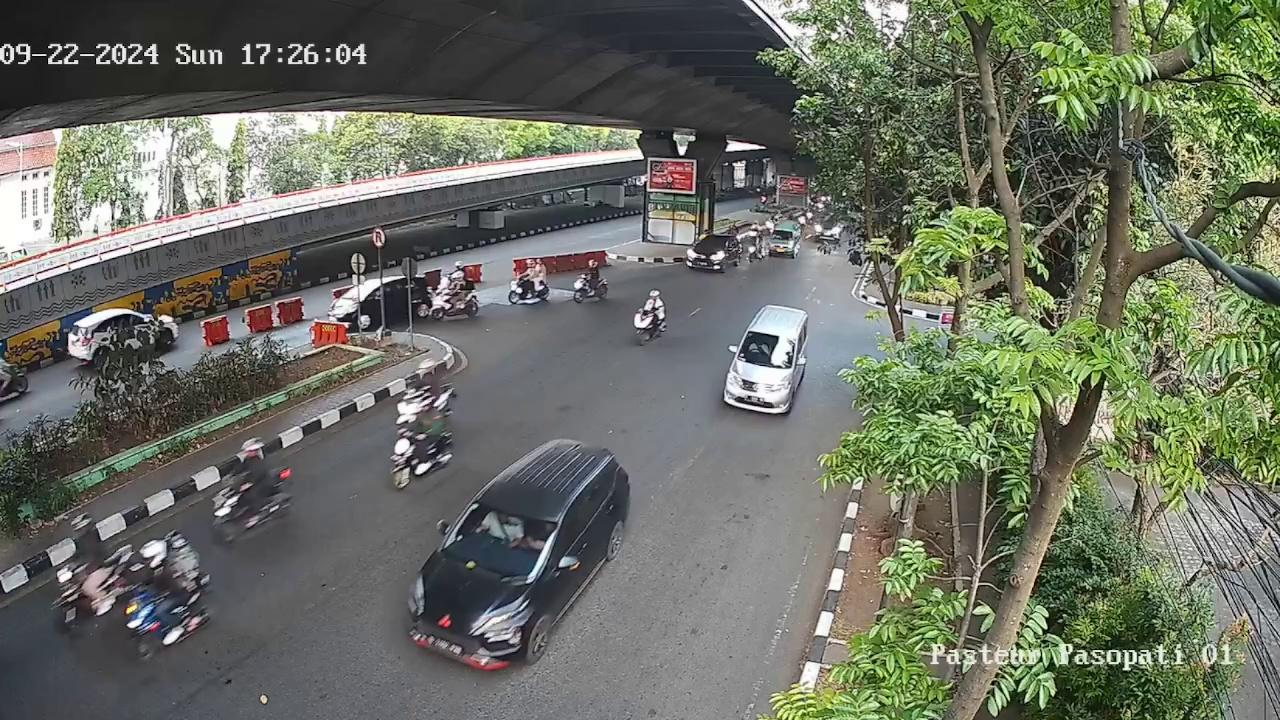pakai: (484, 512, 519, 543), (749, 342, 768, 358)
windshield: (443, 500, 554, 574), (738, 330, 796, 370)
